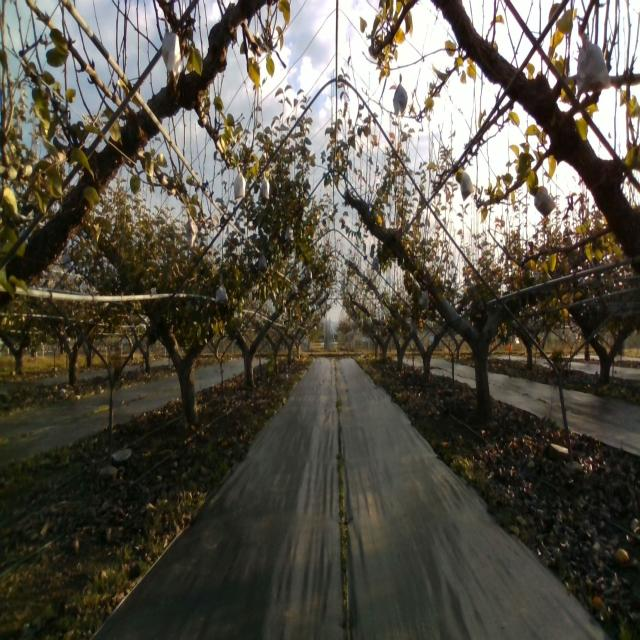pearbags: (577, 32, 611, 102), (162, 17, 181, 90), (534, 186, 556, 218), (393, 74, 408, 118), (185, 207, 198, 249), (460, 168, 474, 201), (234, 167, 245, 200), (215, 278, 228, 304), (260, 171, 270, 201), (419, 289, 429, 309)
